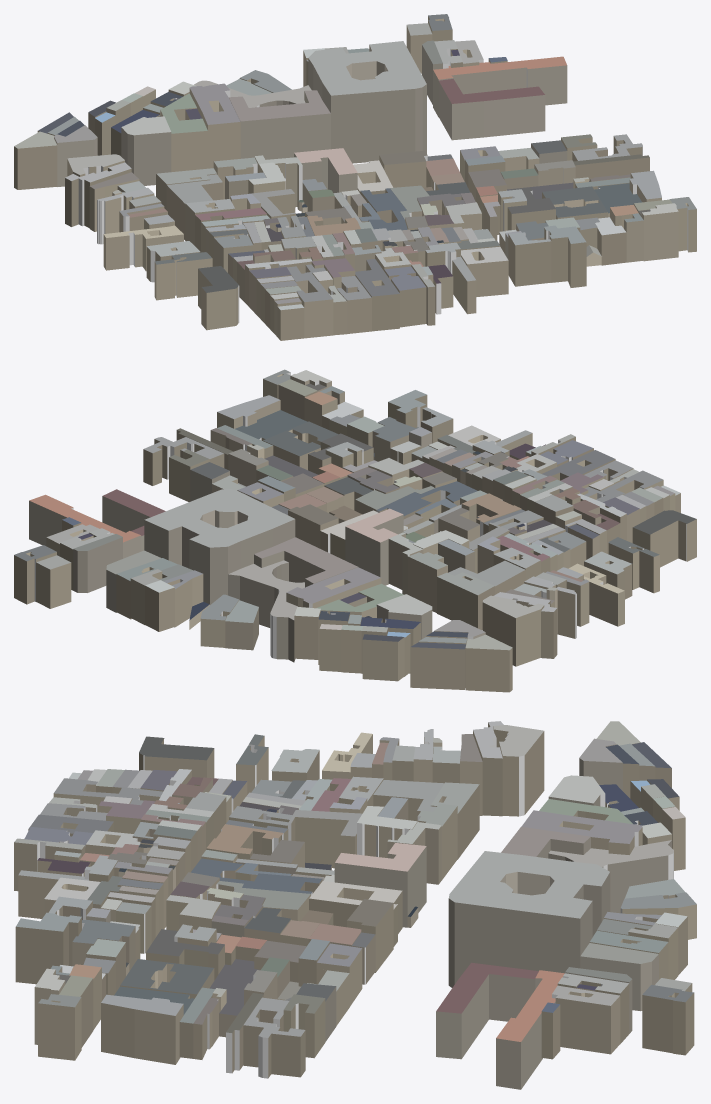
3 views of the same model, one above another, from view 1: azimuth 30°, elevation 25°; view 2: azimuth 150°, elevation 25°; view 3: azimuth 270°, elevation 25° (orthographic). The views are drawn at different scales.
Parts seen in each view (by area): view 1: tuile; view 2: tuile; view 3: tuile.
Part boxes in pixels (x1,y1,x2,y2): tuile: (14,14,696,340); tuile: (14,369,696,692); tuile: (14,721,696,1089).
Bounding box in the file's own units: 298 × 40.37 × 269.
